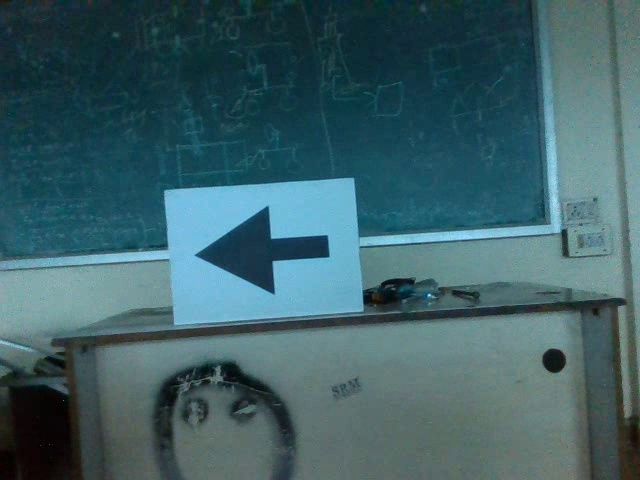Left: (186, 197, 336, 297)
